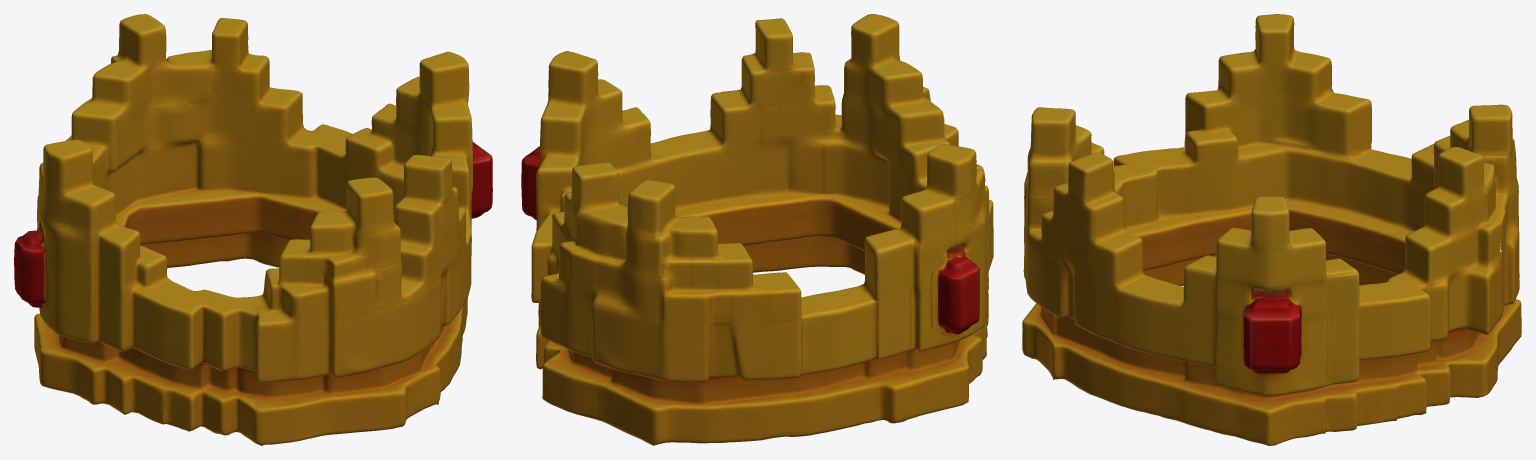
File: royal_crown.glb
The picture shows the model from 3 angles, left to right: view 1: azimuth 30°, elevation 25°; view 2: azimuth 150°, elevation 25°; view 3: azimuth 270°, elevation 25°; orthographic projection. The views are drawn at different scales.
Visible parts, largest first — view 1: tripo_node_a22da117; view 2: tripo_node_a22da117; view 3: tripo_node_a22da117.
Boxes of the visible parts, x1=… form: tripo_node_a22da117: x1=14, y1=14, x2=492, y2=445; tripo_node_a22da117: x1=521, y1=14, x2=993, y2=445; tripo_node_a22da117: x1=1022, y1=14, x2=1521, y2=445.
Size of the model in its own units: 98.04 by 49.43 by 95.51.
1 material, 1 textured.
